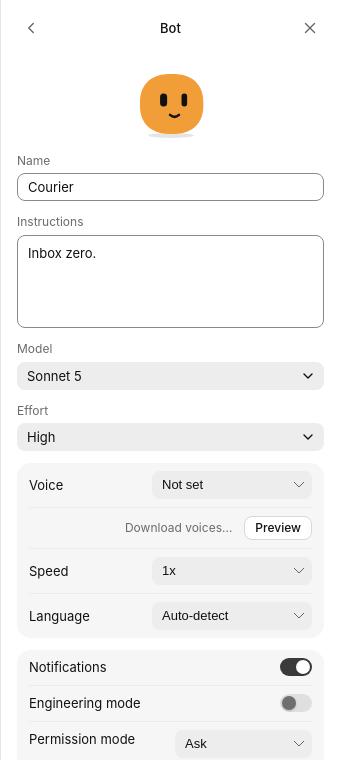
Test case: Bot settings panel (SET-15, BOT-25, BOT-18) › shows a visible error when saving a rename fails, without an unhandled rejection
Replace the text in the field named "Bot name" with "Courier 2": point(170, 187) [17,173,324,201]
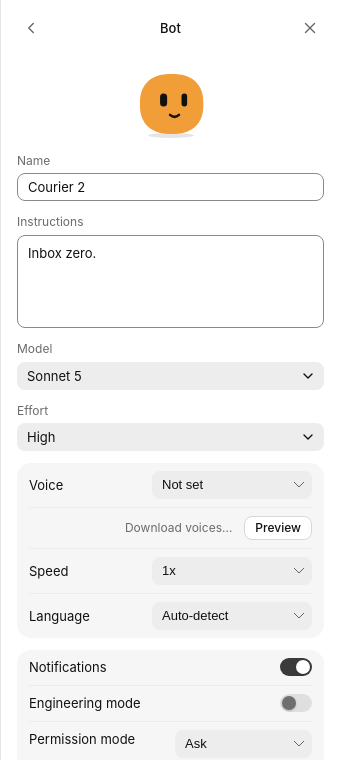
Leave the field named "Bot name", box [17,173,324,201]
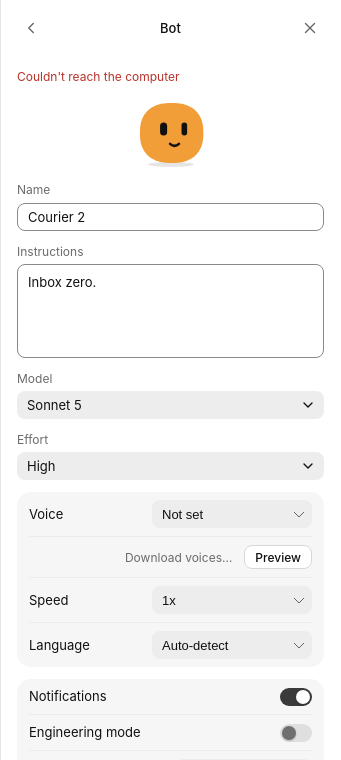
Check: the message reads "Couldn't reach the computer", box [17,69,180,84]
